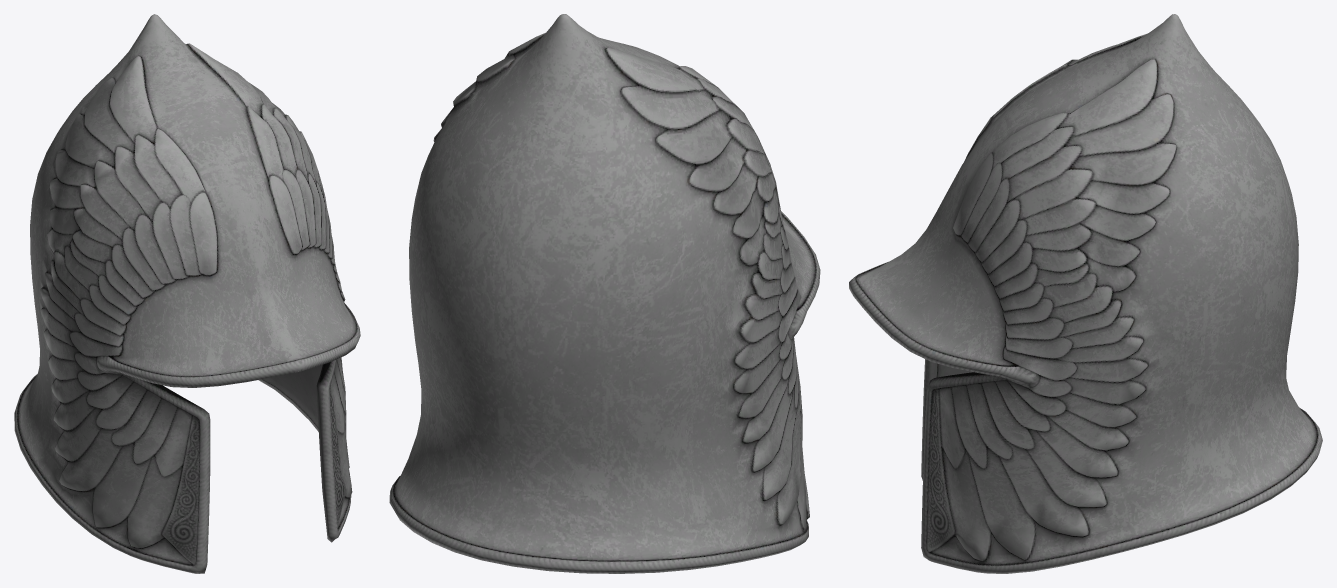
The model's file is pelargirmarine_helmet_4.fbx.
The picture shows the model from 3 angles, left to right: view 1: azimuth 30°, elevation 25°; view 2: azimuth 150°, elevation 25°; view 3: azimuth 270°, elevation 25°; orthographic projection. The views are drawn at different scales.
Parts seen in each view (by area): view 1: pelargirmarine_helmet_4; view 2: pelargirmarine_helmet_4; view 3: pelargirmarine_helmet_4.
Part boxes in pixels (box(x1,y1,x2,y2)): pelargirmarine_helmet_4: box(14, 14, 360, 573); pelargirmarine_helmet_4: box(389, 14, 820, 573); pelargirmarine_helmet_4: box(849, 14, 1322, 573).
Size of the model in its own units: 0.2241 by 0.303 by 0.3602.
Materials: 1 (1 with a texture image).
